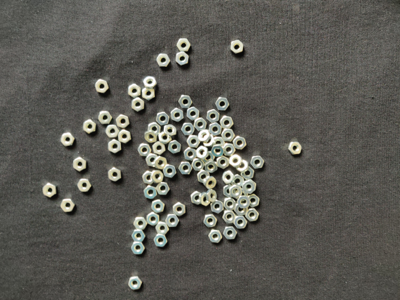nut: (128, 276, 143, 291), (43, 183, 57, 198), (98, 111, 113, 125), (108, 139, 122, 154), (203, 214, 218, 228), (245, 208, 260, 222), (61, 199, 75, 213), (61, 133, 75, 147), (83, 120, 97, 134), (95, 80, 109, 94), (118, 130, 132, 144), (116, 115, 130, 129), (175, 52, 189, 66), (144, 186, 158, 200), (154, 234, 168, 248), (150, 170, 164, 184), (158, 131, 172, 145), (168, 140, 182, 154), (179, 95, 193, 109), (229, 154, 243, 168), (222, 171, 236, 185), (234, 216, 248, 230), (73, 157, 86, 172), (143, 76, 158, 89), (156, 54, 171, 67), (171, 108, 184, 123), (211, 200, 224, 215), (223, 227, 238, 240), (250, 156, 265, 169), (78, 179, 92, 192), (108, 168, 121, 182), (132, 98, 145, 112), (128, 84, 141, 98), (177, 39, 191, 52), (231, 40, 244, 54), (131, 242, 145, 255), (147, 212, 160, 226), (152, 200, 165, 214), (155, 222, 169, 235), (166, 215, 180, 228), (173, 203, 186, 217), (156, 182, 170, 195), (138, 144, 152, 157), (154, 156, 167, 170), (164, 164, 177, 178), (152, 142, 166, 155), (148, 122, 161, 136), (156, 112, 169, 126), (179, 162, 193, 175), (184, 147, 197, 161), (181, 123, 195, 136), (187, 107, 200, 121), (191, 159, 205, 172), (209, 230, 223, 243), (207, 110, 220, 124), (220, 116, 234, 129), (233, 137, 247, 150), (236, 160, 249, 174), (223, 210, 236, 224), (241, 167, 255, 180), (237, 196, 251, 209), (243, 181, 256, 195), (288, 142, 302, 155), (146, 153, 158, 168), (199, 192, 211, 207), (106, 125, 119, 138), (142, 88, 155, 101), (132, 230, 145, 243), (134, 217, 147, 230), (144, 131, 157, 144), (164, 125, 177, 138), (194, 118, 207, 131), (198, 130, 211, 143), (205, 160, 218, 173), (216, 98, 229, 111), (209, 123, 222, 136), (222, 129, 235, 142), (235, 203, 248, 216), (142, 171, 154, 185), (187, 136, 201, 148), (197, 146, 209, 160), (217, 156, 229, 170), (230, 185, 242, 199), (191, 191, 202, 206), (198, 171, 210, 184), (204, 177, 217, 189), (203, 135, 215, 148), (212, 145, 225, 157), (212, 137, 225, 149), (224, 143, 236, 156), (224, 185, 236, 198), (224, 198, 236, 211), (232, 175, 244, 188), (236, 189, 248, 202), (248, 195, 260, 208), (203, 151, 215, 163), (207, 189, 217, 203)
